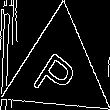P_NE: (31, 38, 85, 101)
